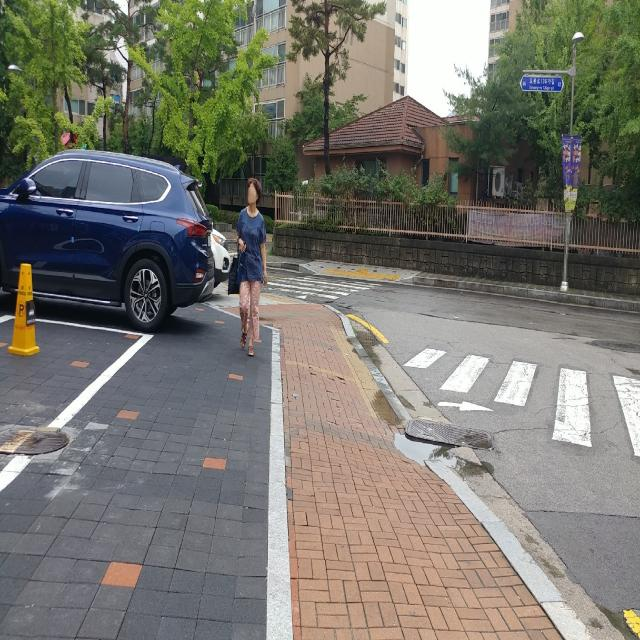횡단보도: (415, 331, 640, 463), (261, 277, 384, 300)
